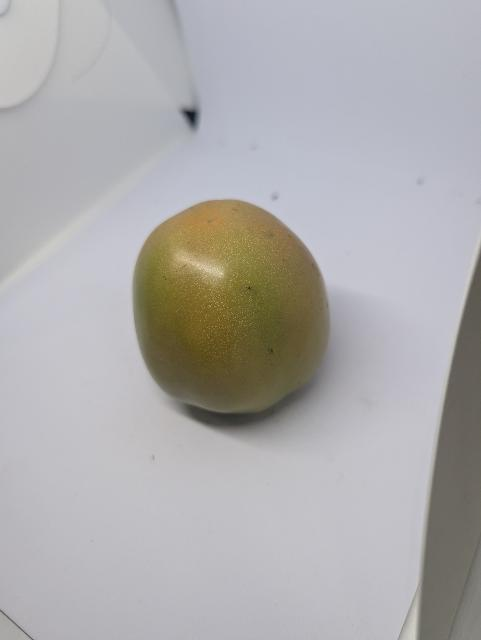breaker: (129, 197, 332, 421)
